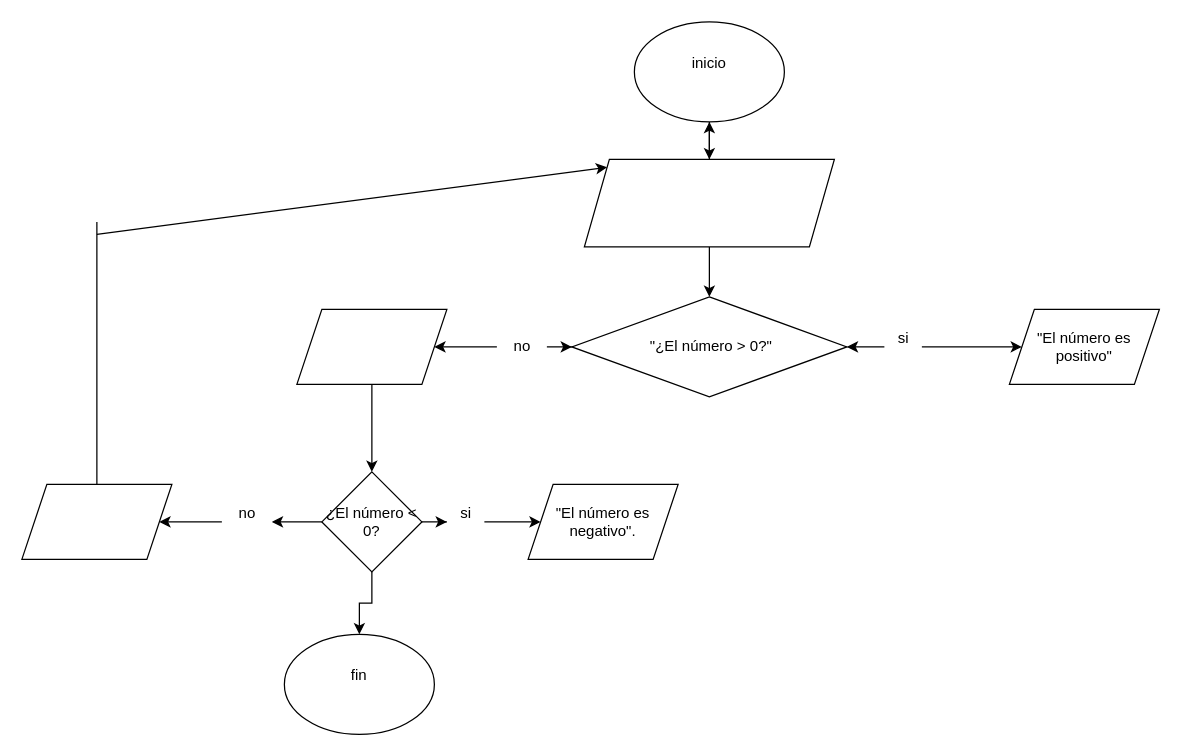
Image size: 1181x756. Some labels were removed from this diagram. Here are the shapes that lost their labels. From the top down, the centre of each, then its label:
(708,202): "Ingresar un número"
(371,346): "El numero es negativo"
(96,521): "El número es cero"
